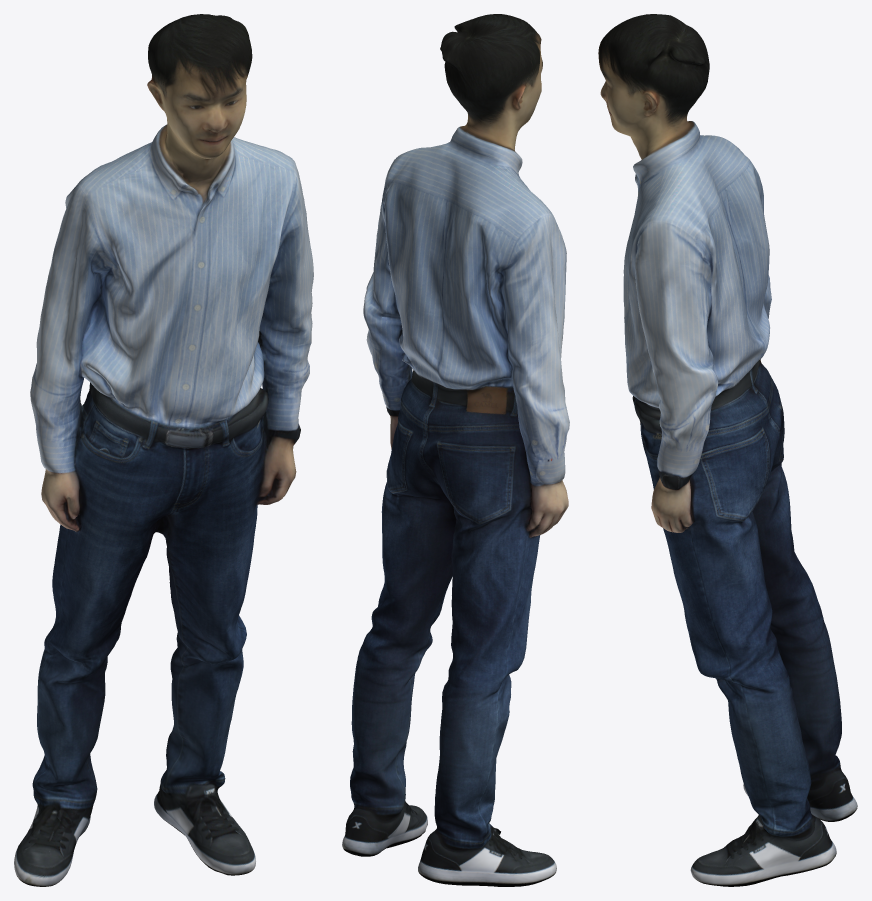
The model's file is xiao.glb.
3 renders of one model, left to right at view 1: azimuth 30°, elevation 25°; view 2: azimuth 150°, elevation 25°; view 3: azimuth 270°, elevation 25°, orthographic. The views are drawn at different scales.
Visible parts, largest first — view 1: model_0; view 2: model_0; view 3: model_0.
Part boxes in pixels (bbox=[...]): model_0: bbox=[14, 14, 313, 886]; model_0: bbox=[342, 14, 569, 886]; model_0: bbox=[598, 14, 857, 886].
Bounding box in the file's own units: 4.12 × 14.19 × 4.
1 material, 1 textured.
